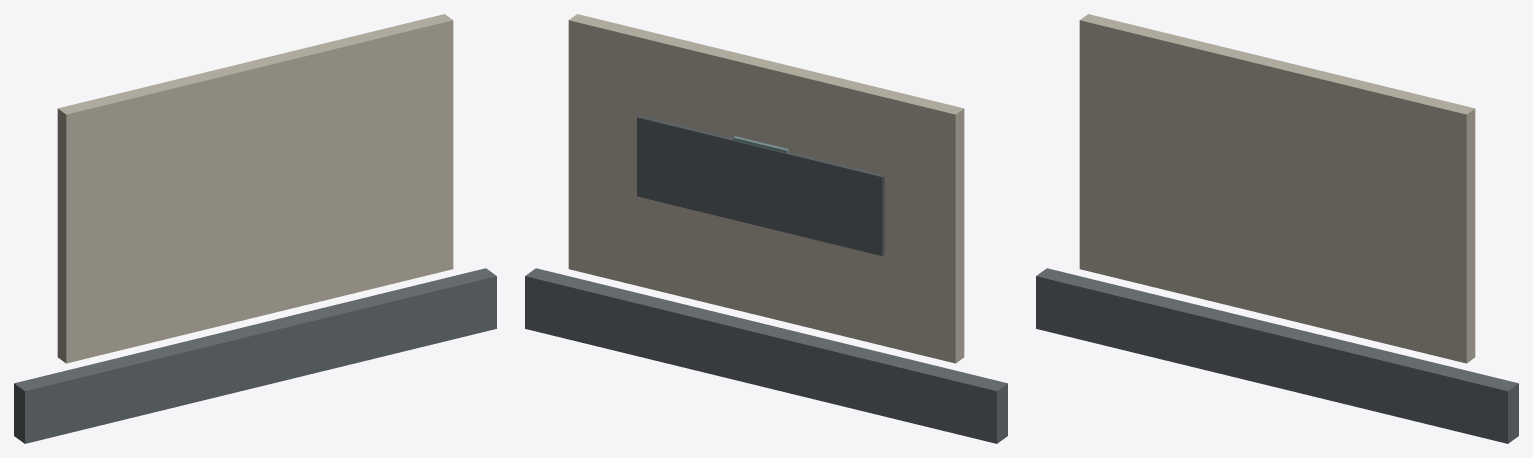
File: iz3_military_fence_01.glb
The picture shows the model from 3 angles, left to right: view 1: azimuth 30°, elevation 25°; view 2: azimuth 150°, elevation 25°; view 3: azimuth 330°, elevation 25°; orthographic projection.
Parts seen in each view (by area): view 1: cabinet, base; view 2: cabinet, base, panel; view 3: cabinet, base.
Boxes of the visible parts, box(x1,y1,x2,y2) form: cabinet: box(57, 14, 453, 363); base: box(14, 268, 496, 443); cabinet: box(568, 14, 964, 363); base: box(525, 268, 1007, 443); panel: box(637, 115, 884, 256); cabinet: box(1079, 14, 1475, 363); base: box(1036, 268, 1518, 443).
Bounding box in the file's own units: 3 × 1.93 × 0.1342.
